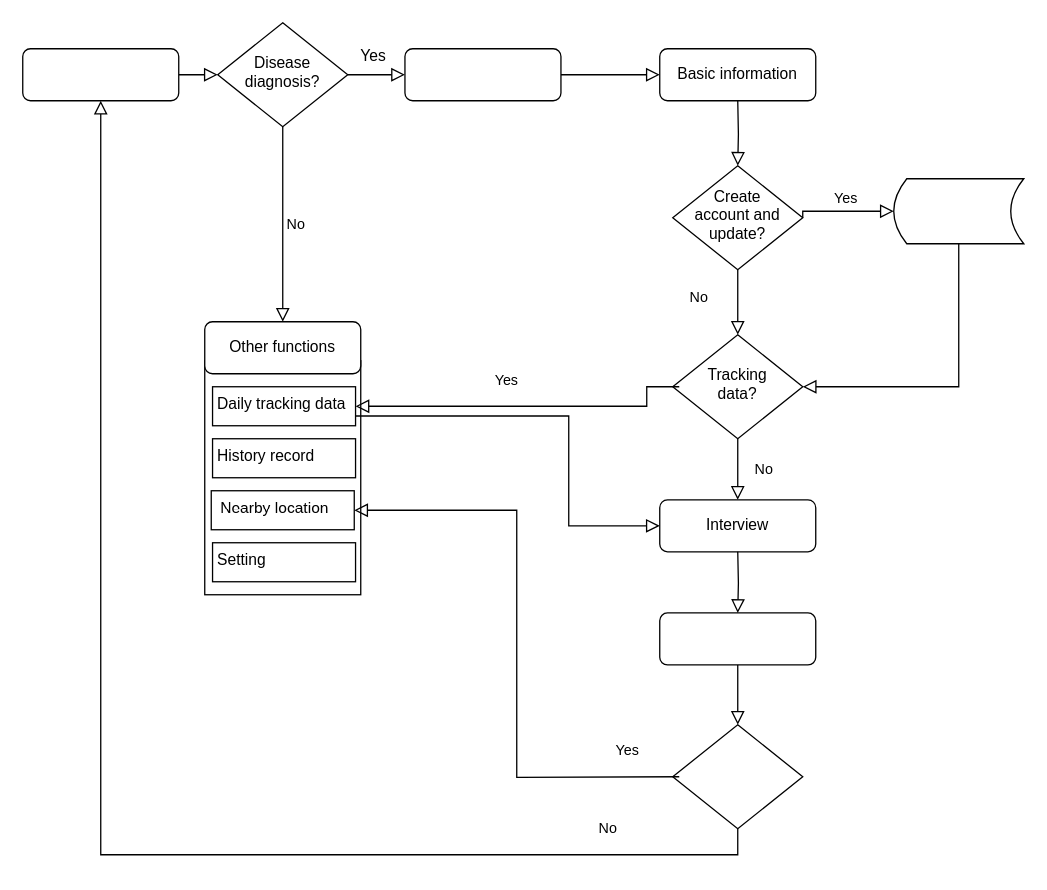
This 1047x890 diagram has some shape labels left out. The centre of each missing label's shape, as x and y in pixels:
Action?: pixel 737 776
info store in system: pixel 958 210
main page: pixel 100 74
Result: pixel 737 638
selected body section and organ: pixel 482 74
